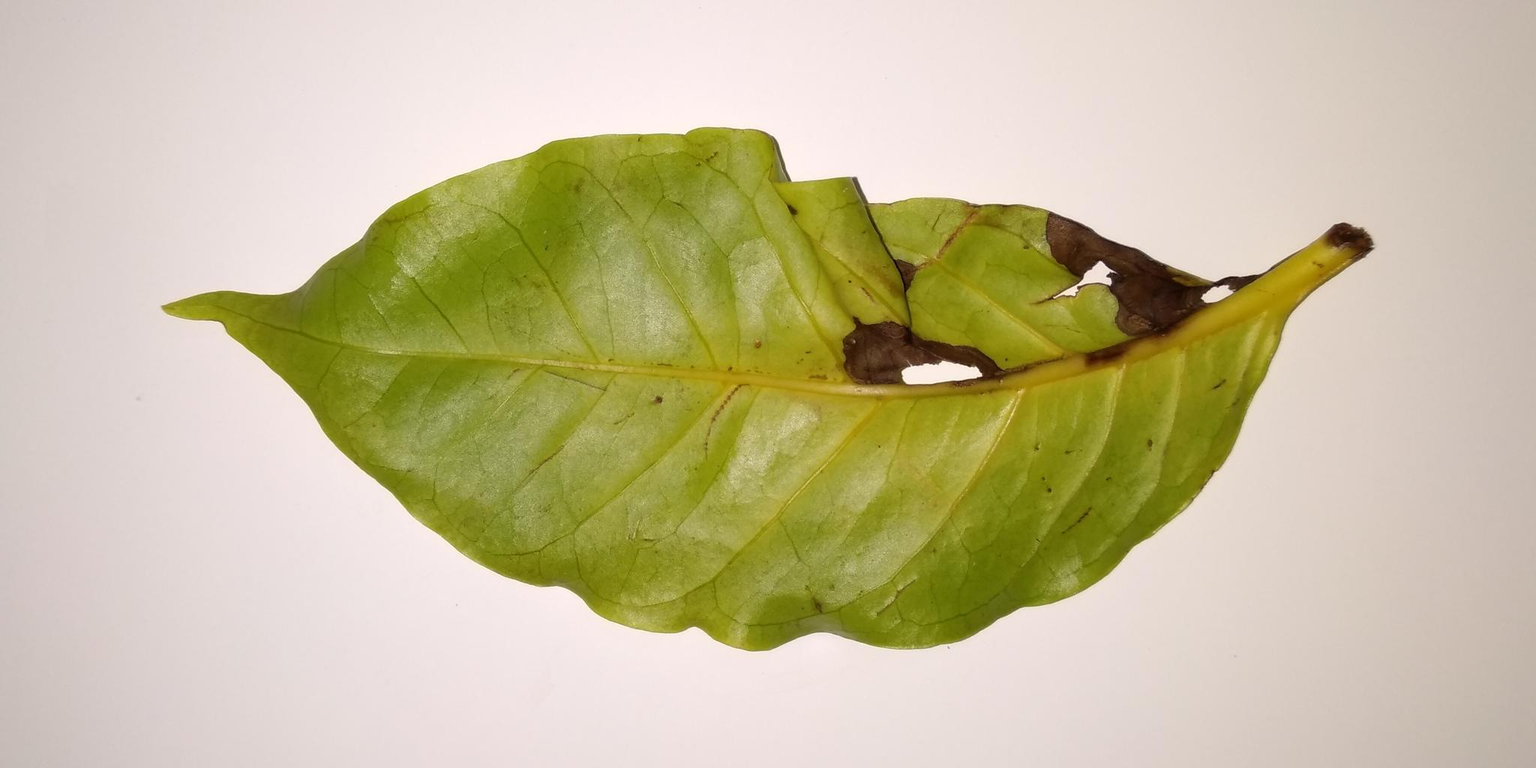Phoma: (1030, 202, 1265, 380), (828, 305, 1021, 412)
